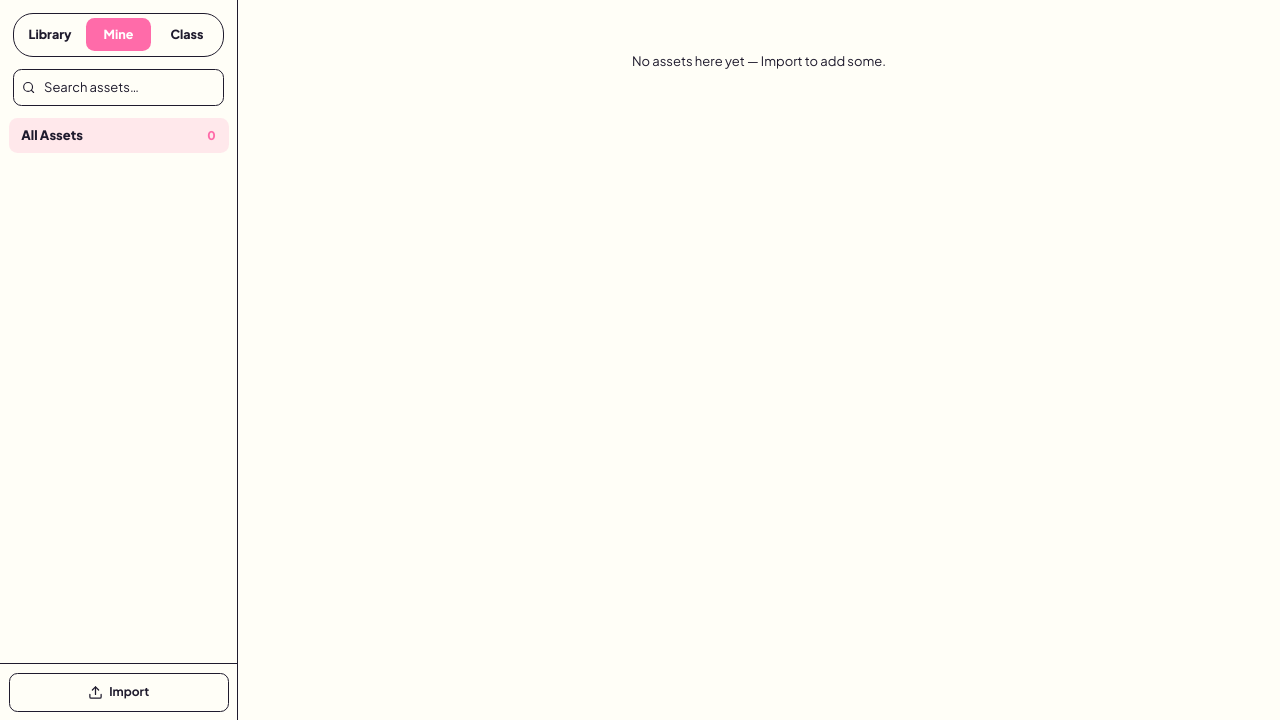
Test: AssetViewerPane — Class tab gating (class-shared-assets-prd) › shows the class-library source in the detail view for a class asset
Click the button with test id "asset-source-class" at (187, 35), box [155,18,219,51]
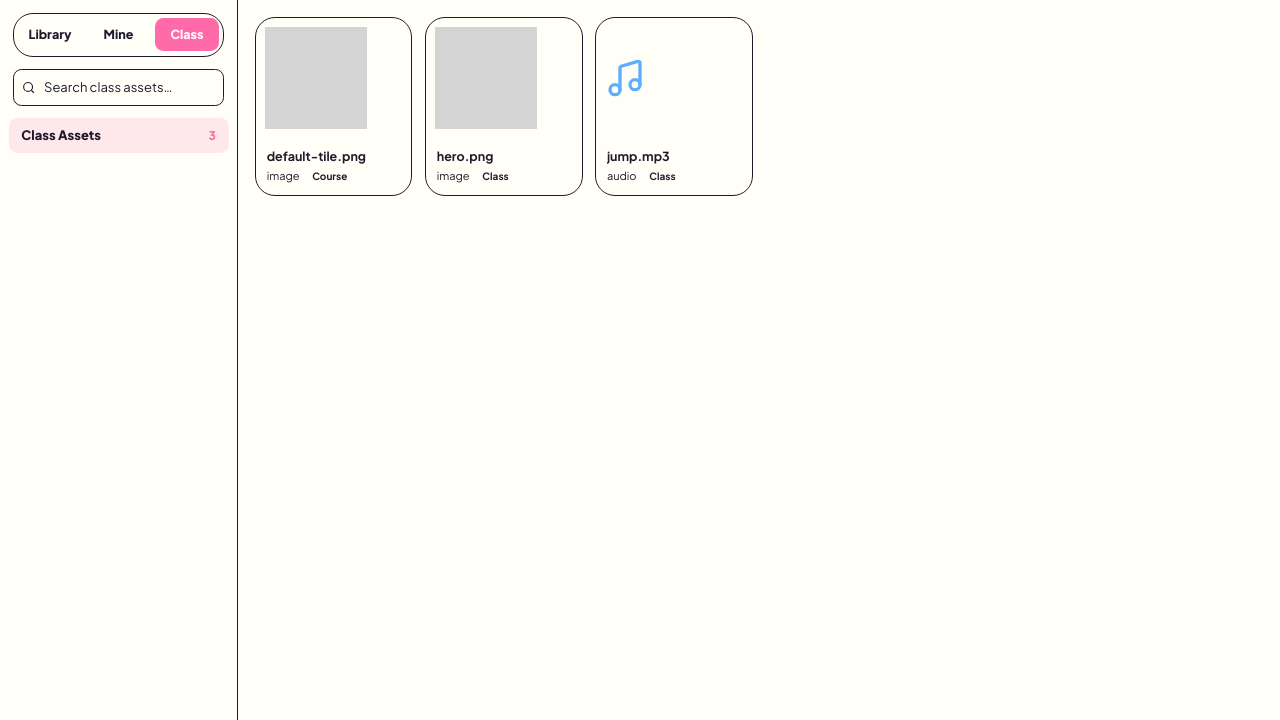
Click the button with test id "class-asset-card" showing "hero.png image Class" at (504, 107), box [425,17,582,196]
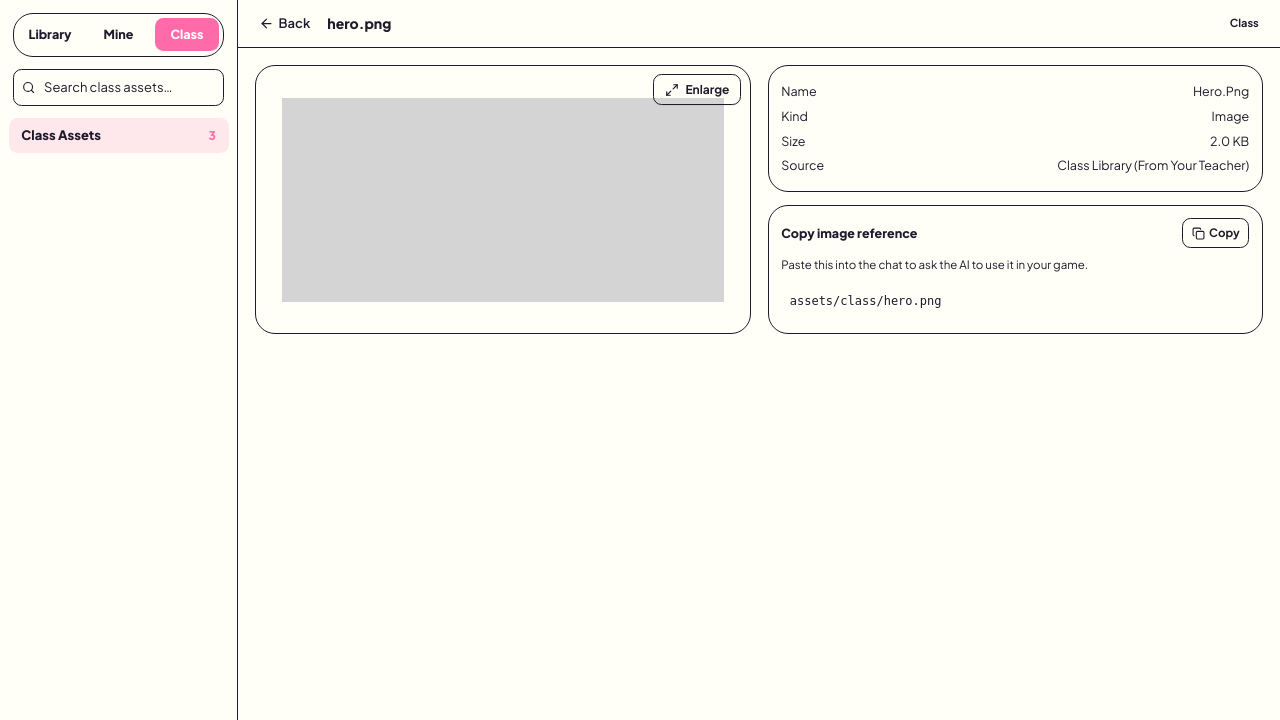
Result: the text "Class library (from your teacher)" is shown at [1057,155,1249,176]
